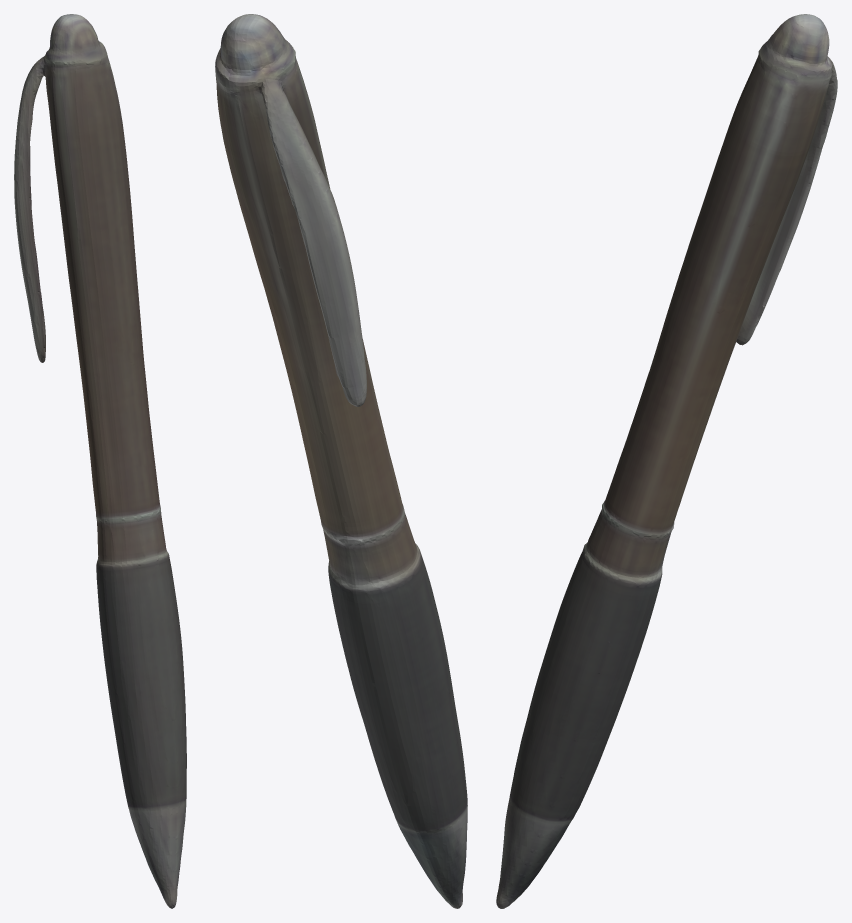
Rendered from frame_0008_source_000008_object.glb.
3 views of the same model, side by side, from view 1: azimuth 30°, elevation 25°; view 2: azimuth 150°, elevation 25°; view 3: azimuth 270°, elevation 25° (orthographic). The views are drawn at different scales.
Visible parts, largest first — view 1: world; view 2: world; view 3: world.
Part boxes in pixels (x1,y1,x2,y2): world: [14, 14, 186, 908]; world: [215, 14, 467, 908]; world: [496, 14, 837, 908].
Bounding box in the file's own units: 0.0237 × 0.1836 × 0.0624.
